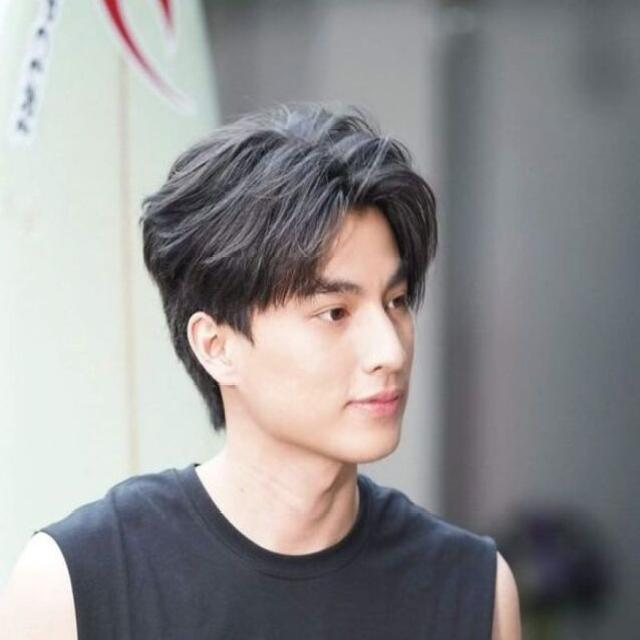Nonhelmet: (136, 98, 442, 464)
